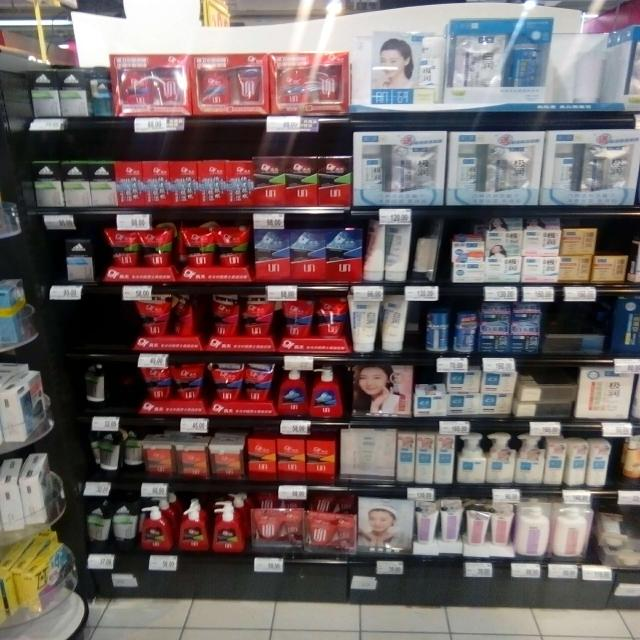empty: (73, 298, 140, 350), (104, 357, 149, 411)
